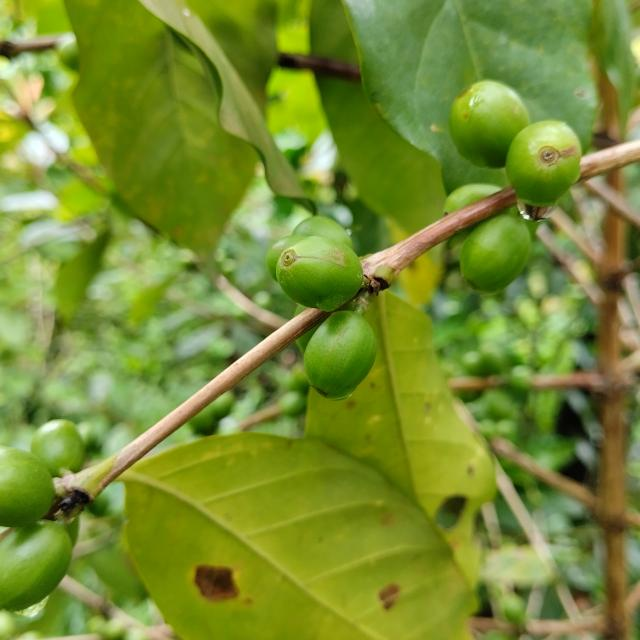green: (449, 80, 531, 167), (276, 236, 364, 312), (0, 521, 72, 612), (506, 120, 582, 206), (304, 311, 376, 400), (460, 214, 532, 293), (0, 446, 54, 528), (30, 420, 84, 477), (293, 216, 354, 248), (444, 183, 502, 214), (266, 235, 304, 281)
